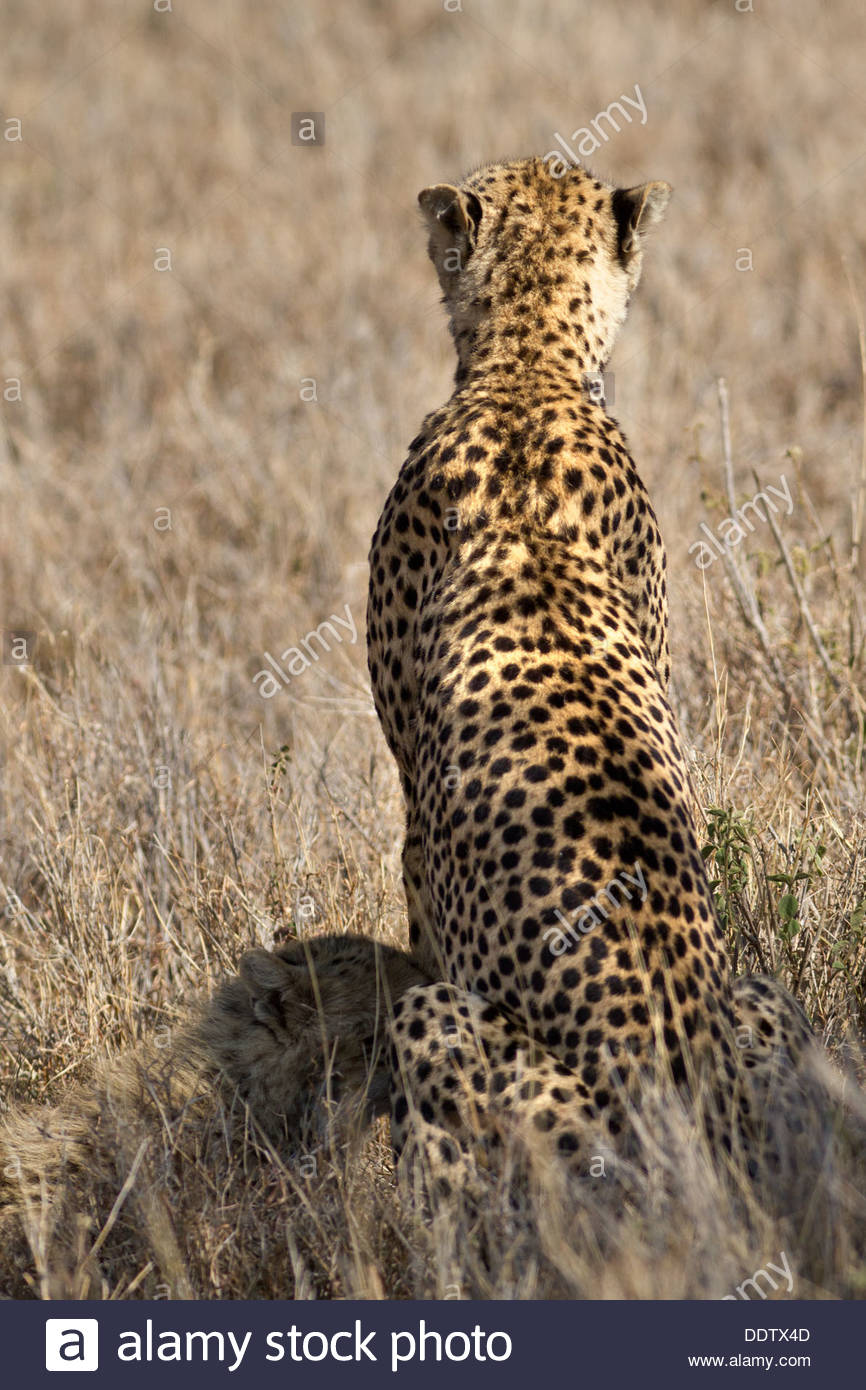Cheetah: (348, 143, 839, 1288)
